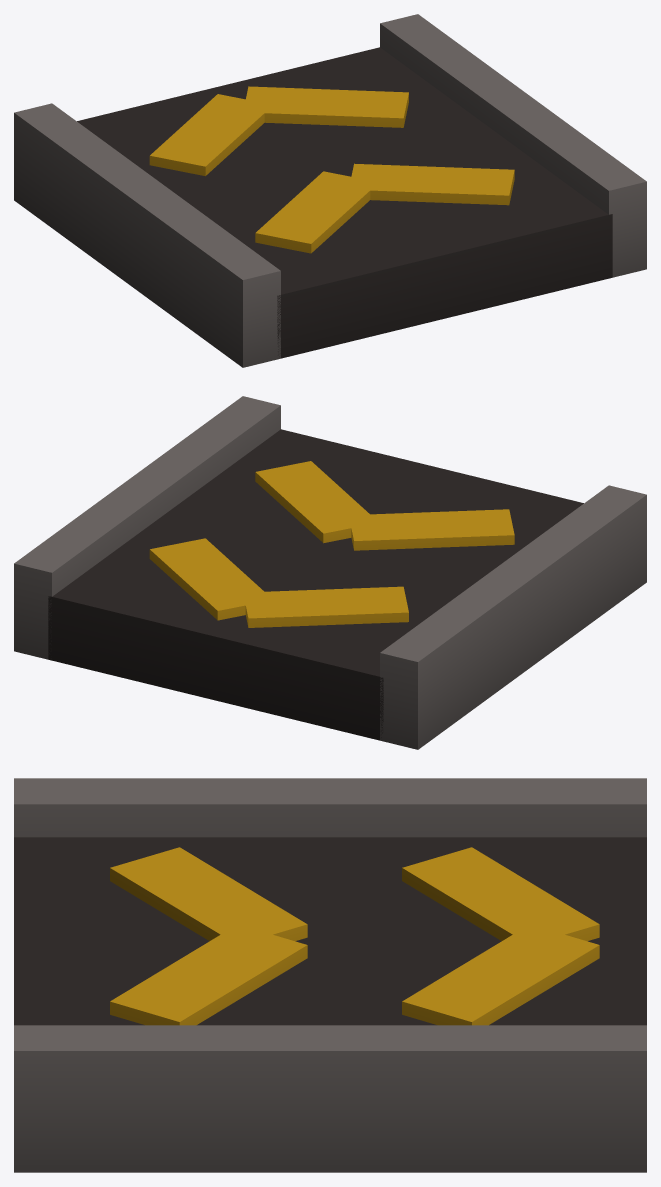
File: transport-belt.glb
3 renders of one model, top to bottom at view 1: azimuth 30°, elevation 25°; view 2: azimuth 150°, elevation 25°; view 3: azimuth 270°, elevation 25°, orthographic. The views are drawn at different scales.
Visible parts, largest first — view 1: transport-belt; view 2: transport-belt; view 3: transport-belt.
Boxes of the visible parts, x1,y1,x2,y2 form: transport-belt: (14, 14, 646, 367); transport-belt: (14, 396, 646, 749); transport-belt: (14, 778, 646, 1172).
Bounding box in the file's own units: 0.265 × 0.055 × 0.26.
